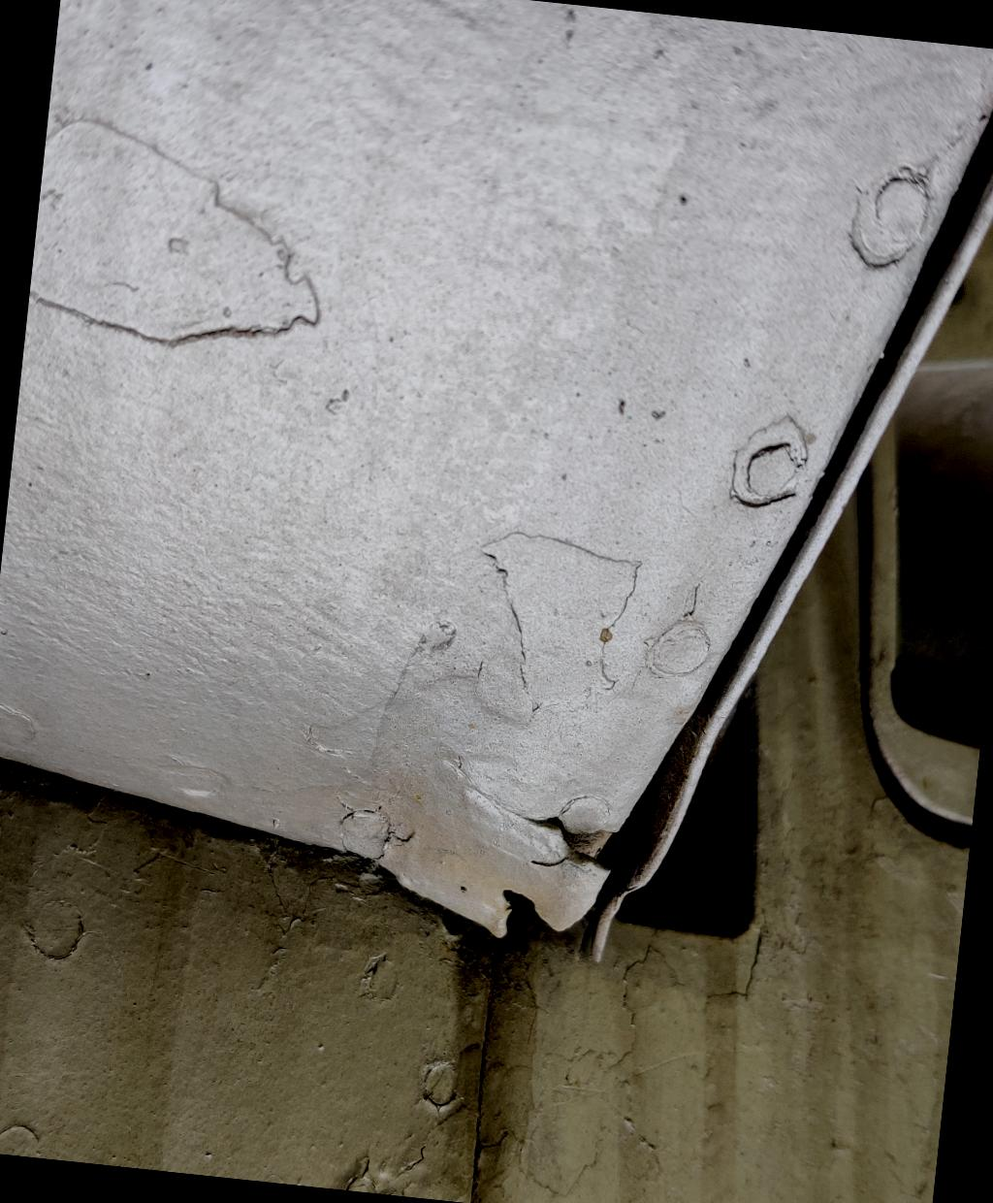crack: (507, 781, 632, 900)
